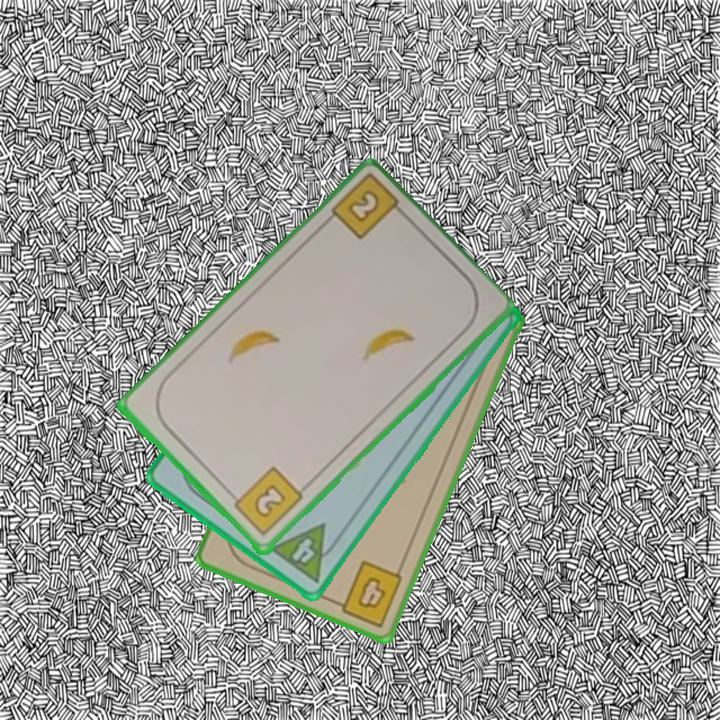2b: (225, 464, 306, 540), (327, 173, 410, 244)
4b: (329, 557, 406, 631)
4p: (265, 520, 345, 586)
